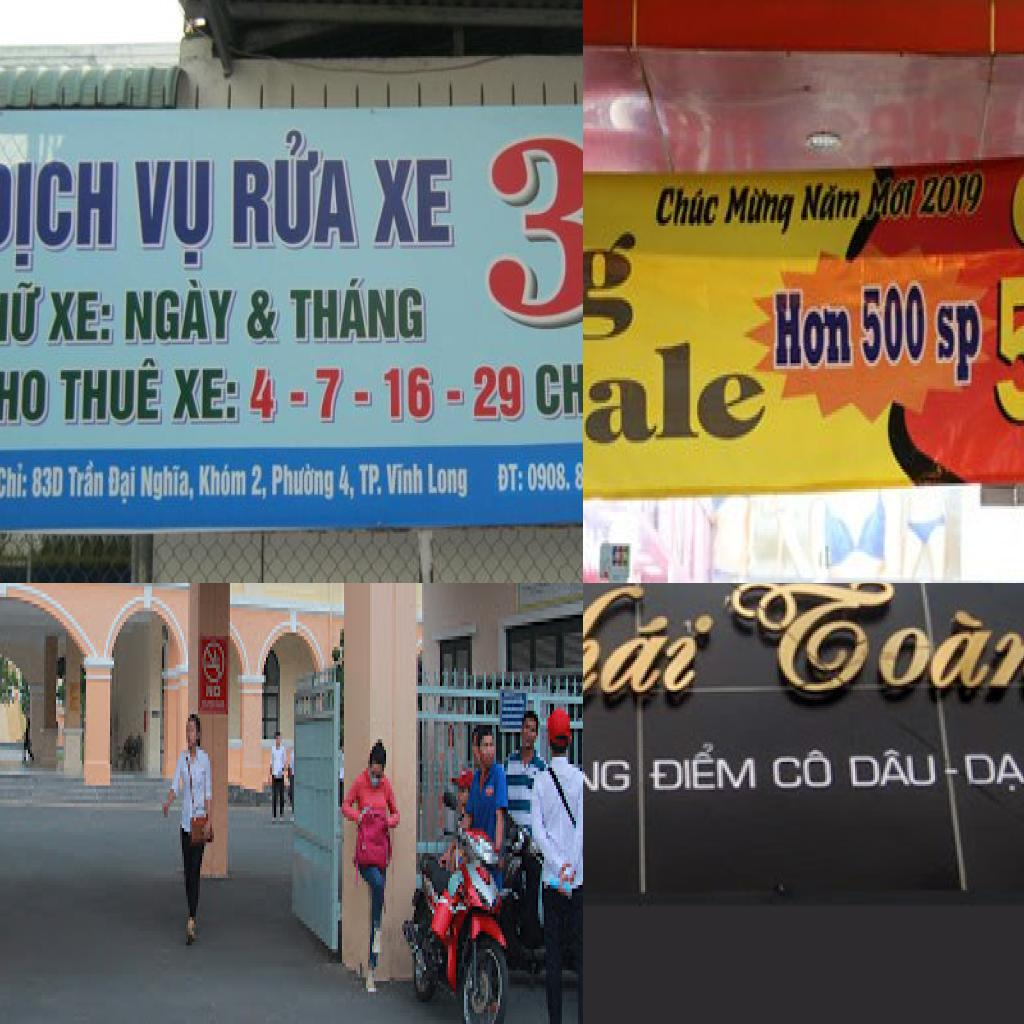text: (713, 583, 1024, 714), (583, 340, 770, 460), (483, 134, 583, 330), (583, 583, 731, 710), (232, 130, 360, 250), (0, 160, 118, 269), (290, 278, 427, 344), (134, 158, 214, 271), (124, 276, 242, 346), (583, 206, 639, 349), (765, 288, 856, 372), (372, 157, 455, 249), (58, 356, 163, 426), (858, 277, 928, 372), (649, 740, 759, 794), (933, 292, 987, 394), (995, 271, 1024, 431), (170, 366, 240, 424), (847, 746, 939, 790), (721, 183, 794, 237), (46, 290, 114, 346), (536, 341, 583, 421), (915, 166, 989, 214), (653, 183, 721, 231), (472, 363, 526, 423), (800, 174, 864, 223), (0, 279, 45, 347), (0, 370, 51, 428), (771, 746, 835, 792), (384, 365, 434, 423), (963, 752, 1024, 796), (866, 174, 917, 223), (270, 464, 334, 501), (140, 465, 197, 505), (245, 286, 280, 344), (199, 462, 248, 503), (583, 758, 635, 796), (245, 366, 279, 424), (526, 459, 583, 493), (316, 368, 344, 425), (427, 462, 469, 500), (67, 460, 106, 500), (386, 462, 426, 496), (107, 462, 137, 507), (0, 462, 28, 501), (31, 466, 65, 498), (495, 462, 524, 495), (358, 464, 383, 498), (250, 462, 270, 502), (289, 390, 309, 410), (353, 388, 373, 408), (445, 389, 464, 406)
